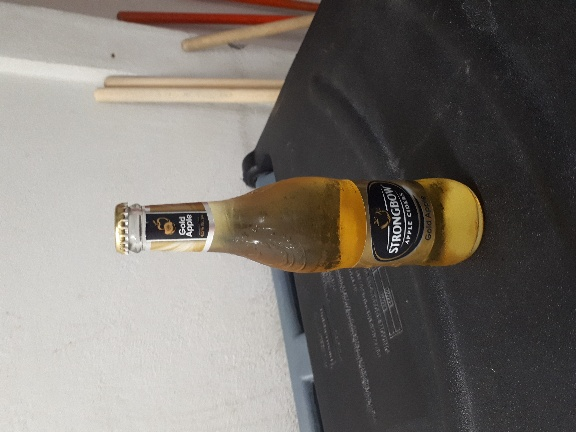SGB: (79, 127, 352, 201)
